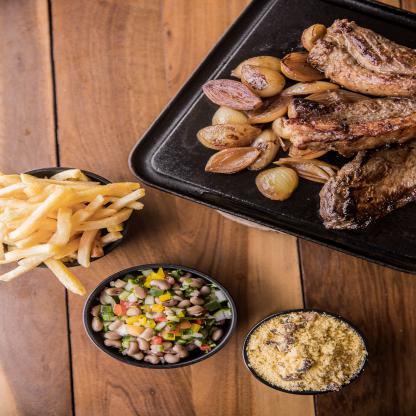Carne: (276, 93, 415, 156), (319, 144, 416, 231), (319, 20, 415, 92)
